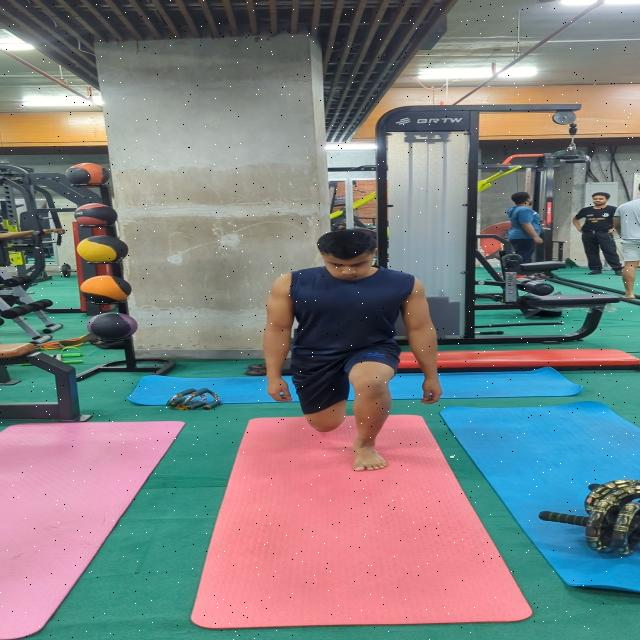Normal_Lunges: (244, 221, 459, 475)
